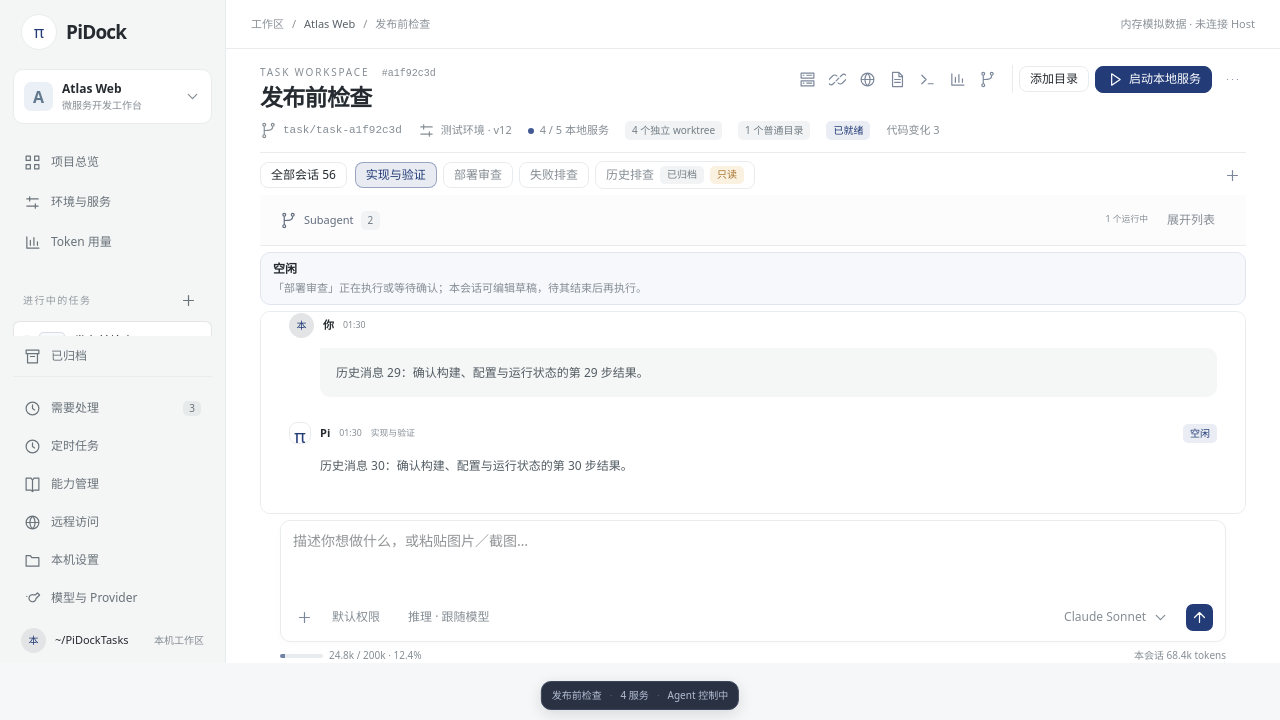
Scenario: rename modals › still renames the session it was opened for
(page scrolled)
Expected: the heading "发布前检查" is shown, [260, 81, 372, 113]
Click the button "全部会话 56" at [303, 175], box [260, 162, 347, 188]
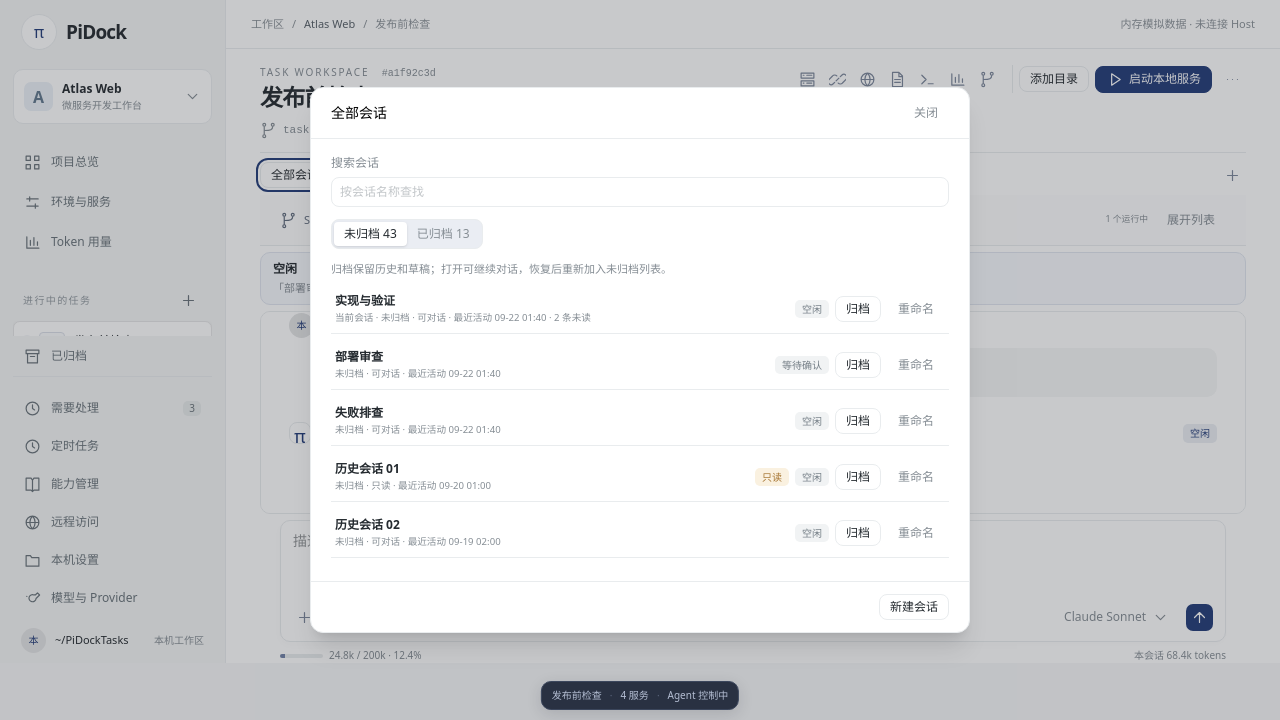
Expected: the dialog "全部会话" is shown, [310, 87, 970, 633]
Click the 1st button "重命名" at [916, 309], box [887, 296, 945, 322]
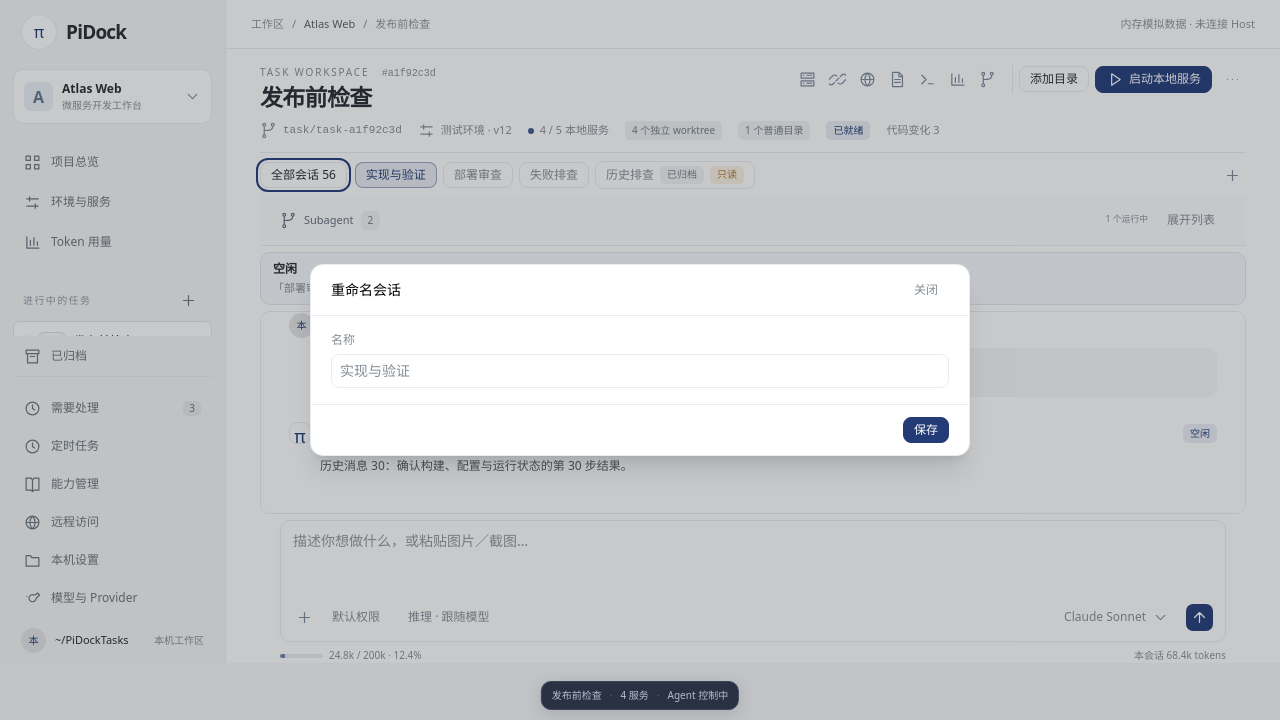
Replace the text in the field named "会话名称" with "重命名后的会话" at [640, 371], box [331, 354, 949, 388]
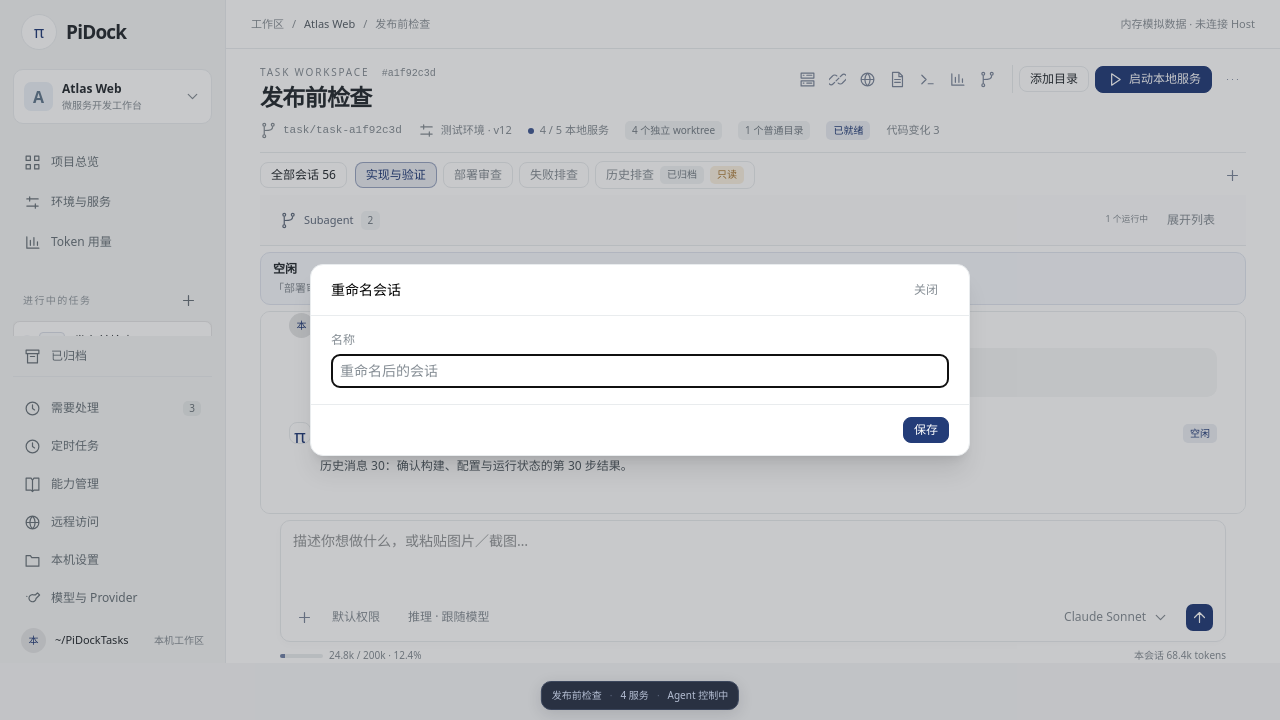
Click the button "保存" at [926, 430], box [903, 417, 949, 443]
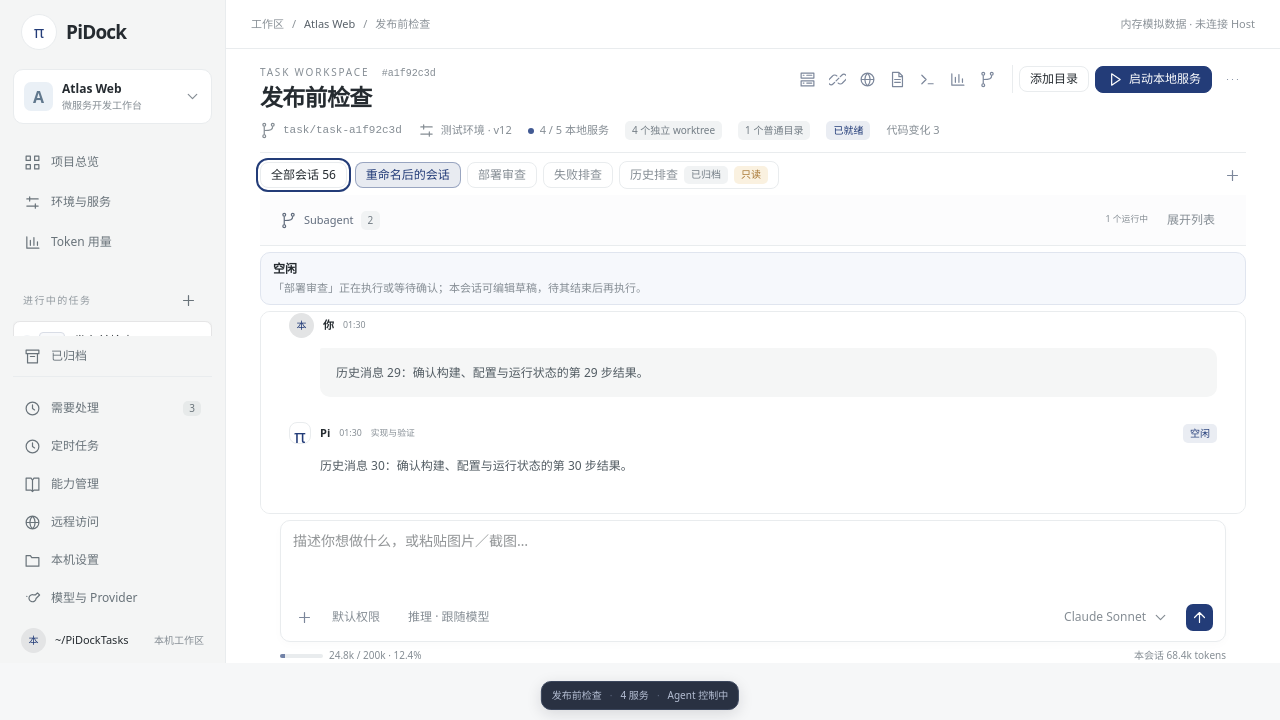
Expected: the button "重命名后的会话" is shown, [355, 162, 461, 188]
